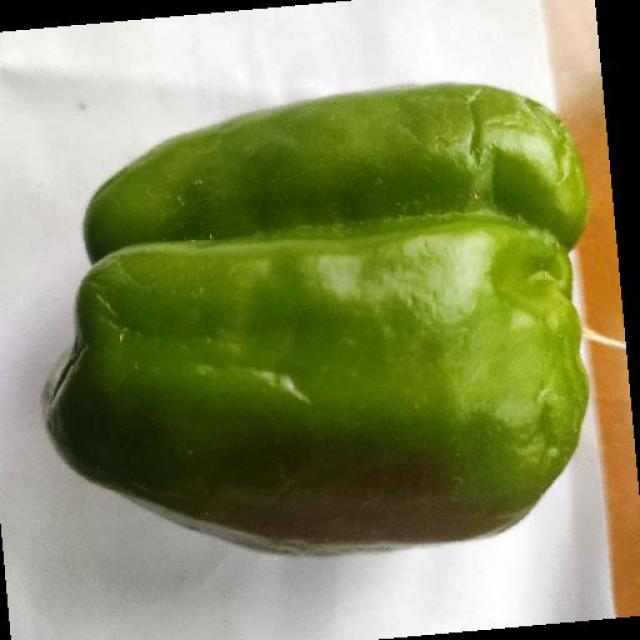Stale_Capsicum: (93, 85, 599, 560)
